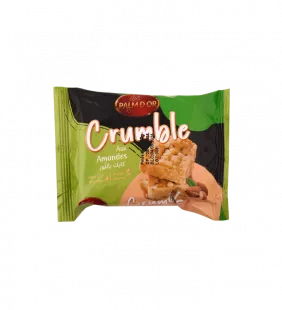Promotion: (44, 76, 236, 228)
